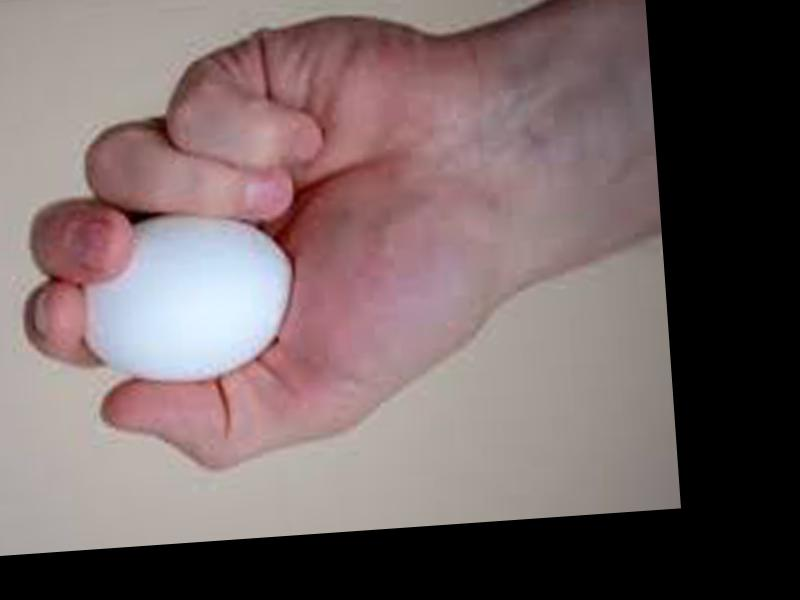Eggs: (77, 209, 302, 387)
